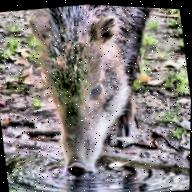boar: (12, 1, 173, 190)
